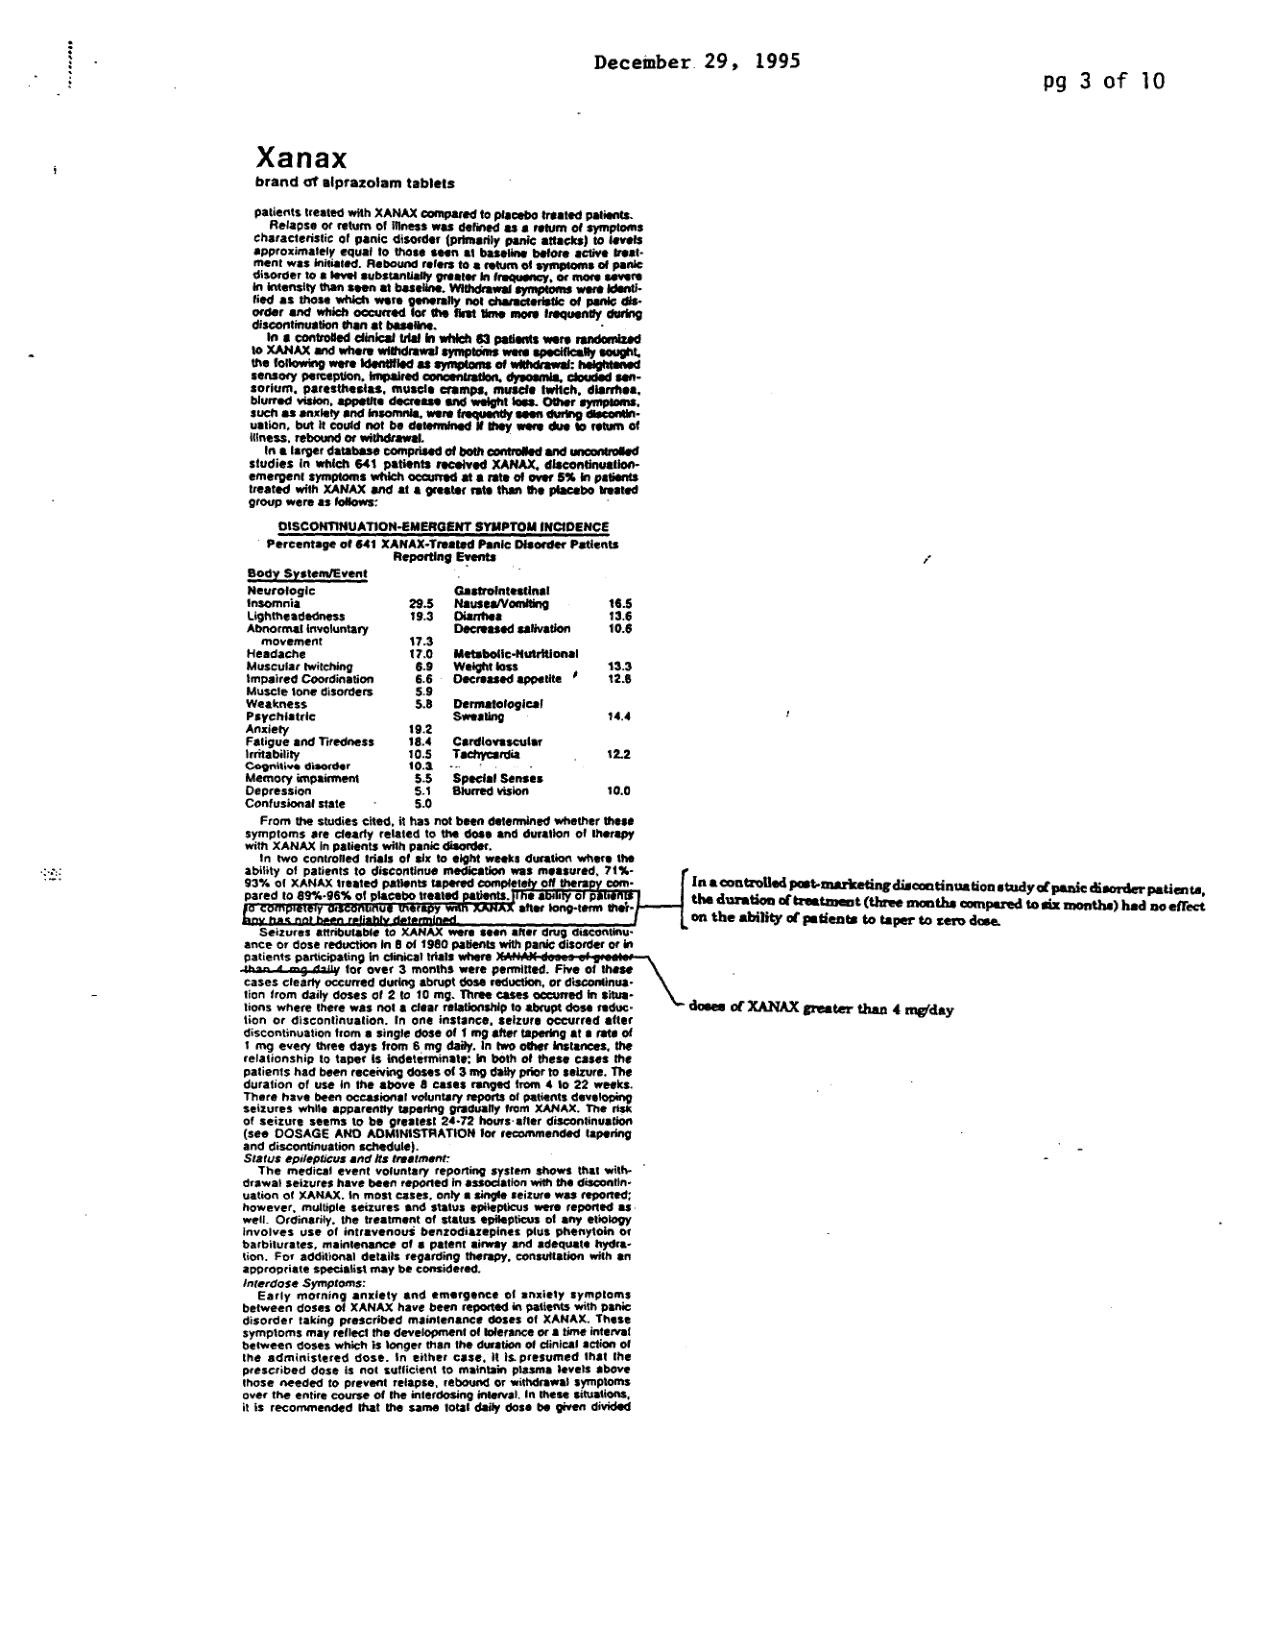nolines: (243, 565, 636, 810)
